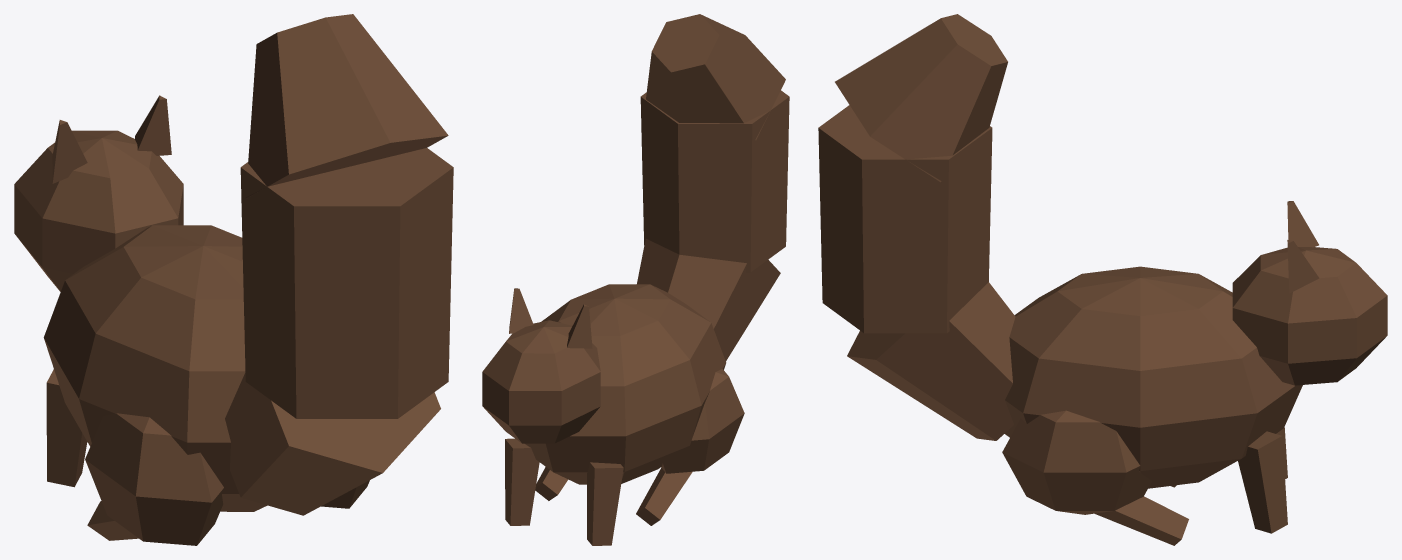
File: squirrel.glb
3 renders of one model, left to right at view 1: azimuth 30°, elevation 25°; view 2: azimuth 150°, elevation 25°; view 3: azimuth 270°, elevation 25°, orthographic. The views are drawn at different scales.
Parts seen in each view (by area): view 1: squirrel; view 2: squirrel; view 3: squirrel.
Part boxes in pixels (x1=…): squirrel: x1=14, y1=14, x2=453, y2=545; squirrel: x1=482, y1=14, x2=789, y2=545; squirrel: x1=818, y1=14, x2=1387, y2=545.
Bounding box in the file's own units: 0.1733 × 0.3982 × 0.412.
